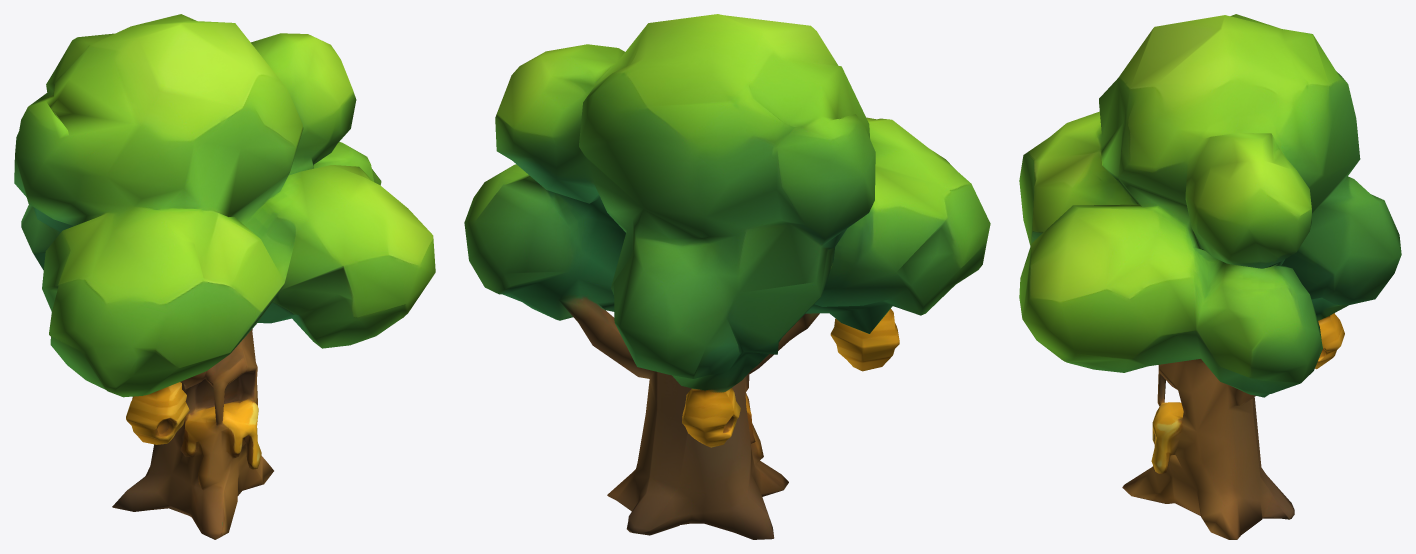
The picture shows the model from 3 angles, left to right: view 1: azimuth 30°, elevation 25°; view 2: azimuth 150°, elevation 25°; view 3: azimuth 270°, elevation 25°; orthographic projection. The views are drawn at different scales.
Parts seen in each view (by area): view 1: honey-tree; view 2: honey-tree; view 3: honey-tree.
Boxes of the visible parts, x1=… form: honey-tree: x1=14, y1=14, x2=435, y2=539; honey-tree: x1=464, y1=14, x2=990, y2=539; honey-tree: x1=1019, y1=14, x2=1401, y2=539.
Bounding box in the file's own units: 0.8728 × 1 × 0.7417.
Materials: 1 (1 with a texture image).
